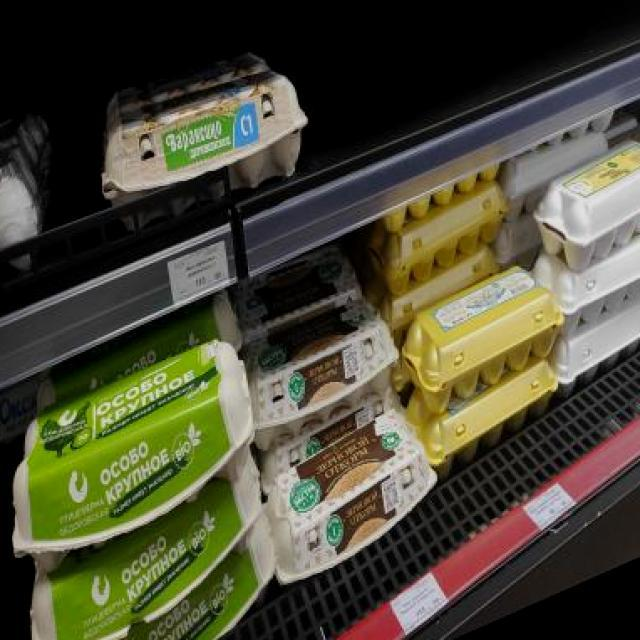egg: (0, 324, 260, 582), (95, 46, 315, 261), (18, 472, 268, 640), (262, 400, 442, 580), (241, 284, 402, 448)
